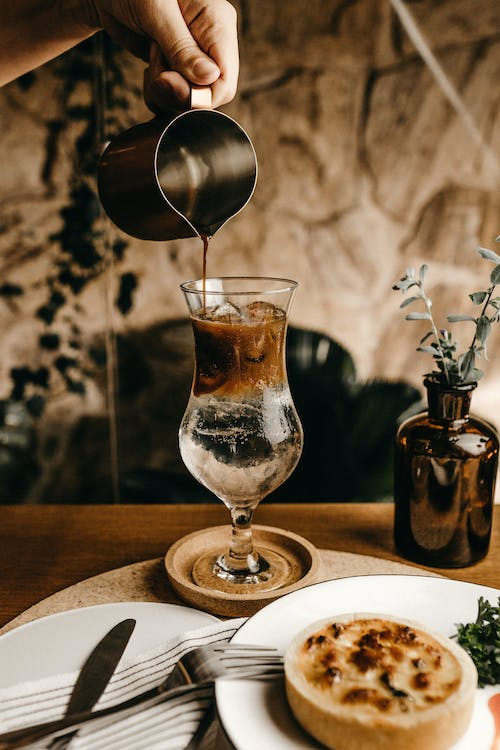knife: (39, 615, 138, 750)
